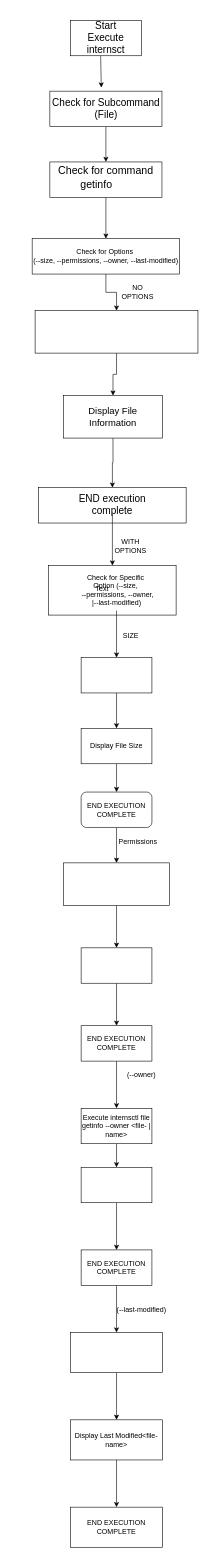
Some shapes in this 218 by 1558 pixel diagram are drawn without their labels. Each missing label, with the centre of its shape:
Display File Owner: pixel 116 1185
Display File Permissions: pixel 116 965
Execute internsctl file getinfo --permissions <file-name>: pixel 116 883
Execute internsctl file internsctl file getinfo <file-name>: pixel 116 331
Execute internsctl file | | getinfo --size <file-name>: pixel 116 675
Execute internsctl file| getinfo --last-modified <file-name>: pixel 116 1352
